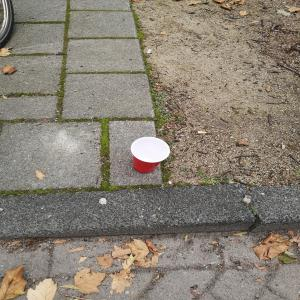Cup: (125, 135, 177, 178)
